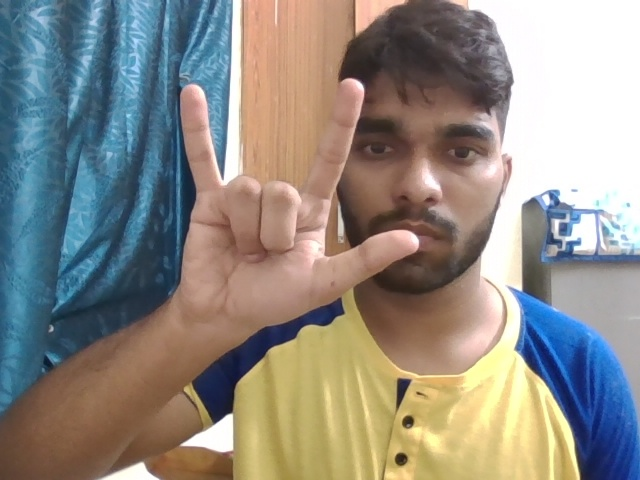I love you: (151, 70, 427, 342)
